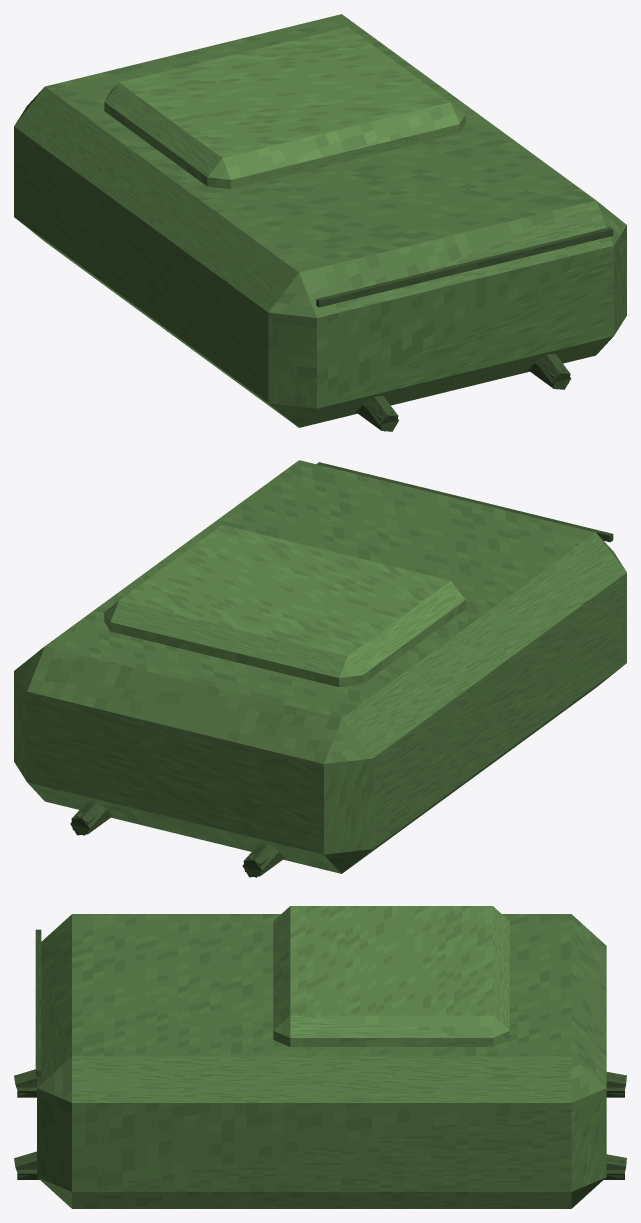
Rendered from backpack_small.glb.
3 views of the same model, one above another, from view 1: azimuth 30°, elevation 25°; view 2: azimuth 150°, elevation 25°; view 3: azimuth 270°, elevation 25° (orthographic).
Parts seen in each view (by area): view 1: block_bag body, block_front pocket, block_zipper or closure, block_shoulder harness -0.0696 2, block_shoulder harness 0.0696 2; view 2: block_bag body, block_front pocket, block_zipper or closure, block_shoulder harness 0.0696 0, block_shoulder harness -0.0696 0; view 3: block_bag body, block_front pocket, block_zipper or closure, block_shoulder harness -0.0696 1.
Boxes of the visible parts, left/top/right/bottom form: block_bag body: left=14, top=14, right=626, bottom=427; block_front pocket: left=104, top=27, right=465, bottom=189; block_zipper or closure: left=316, top=227, right=613, bottom=307; block_shoulder harness -0.0696 2: left=363, top=396, right=398, bottom=431; block_shoulder harness 0.0696 2: left=535, top=354, right=570, bottom=389; block_bag body: left=14, top=460, right=626, bottom=873; block_front pocket: left=104, top=525, right=465, bottom=687; block_zipper or closure: left=316, top=462, right=613, bottom=542; block_shoulder harness 0.0696 0: left=71, top=801, right=107, bottom=835; block_shoulder harness -0.0696 0: left=243, top=843, right=279, bottom=877; block_bag body: left=37, top=914, right=606, bottom=1208; block_front pocket: left=273, top=906, right=509, bottom=1046; block_zipper or closure: left=35, top=929, right=41, bottom=1076; block_shoulder harness -0.0696 1: left=17, top=1077, right=624, bottom=1097.
Size of the model in its own units: 0.1514 by 0.0727 by 0.228.
Materials: 1 (1 with a texture image).
